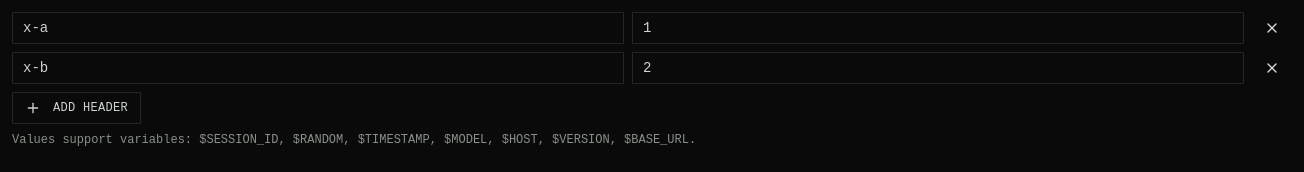
Test: CustomHeadersEditor › removes a header row
expect the 1st field showing "x-a" is shown: met, box [12, 12, 624, 44]
Click the 1st button named "Remove header": (1272, 28) [1252, 12, 1292, 44]
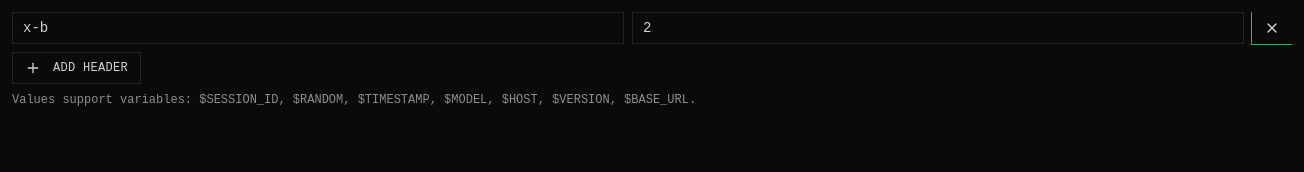
expect the field showing "x-a" is not shown: met
expect the 1st field showing "x-b" is shown: met, box [12, 12, 624, 44]
